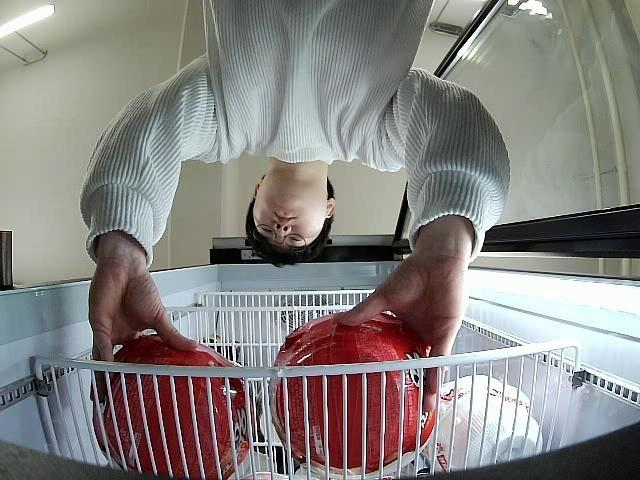10_wangTtukkeong: (268, 308, 441, 479), (94, 336, 255, 480)
